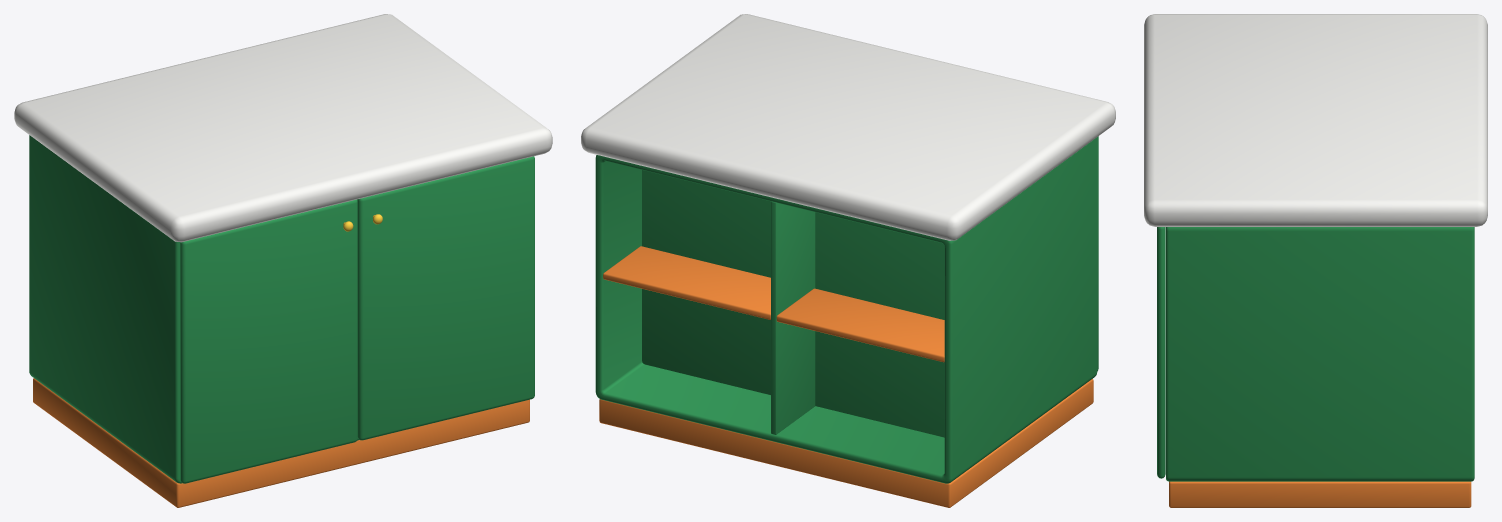
The model's file is ilha_cozinha_verde.glb.
The picture shows the model from 3 angles, left to right: view 1: azimuth 30°, elevation 25°; view 2: azimuth 150°, elevation 25°; view 3: azimuth 270°, elevation 25°; orthographic projection. The views are drawn at different scales.
Visible parts, largest first — view 1: ilha_cozinha_verde, porta_1, porta_2; view 2: ilha_cozinha_verde; view 3: ilha_cozinha_verde, porta_2.
Boxes of the visible parts, bbox=[...] form: ilha_cozinha_verde: bbox=[14, 14, 552, 507]; porta_1: bbox=[180, 199, 357, 483]; porta_2: bbox=[357, 156, 534, 440]; ilha_cozinha_verde: bbox=[581, 14, 1115, 507]; ilha_cozinha_verde: bbox=[1144, 14, 1487, 507]; porta_2: bbox=[1157, 227, 1165, 478].
Bounding box in the file's own units: 1.2 × 0.9 × 0.9.
1 material, 1 textured.
